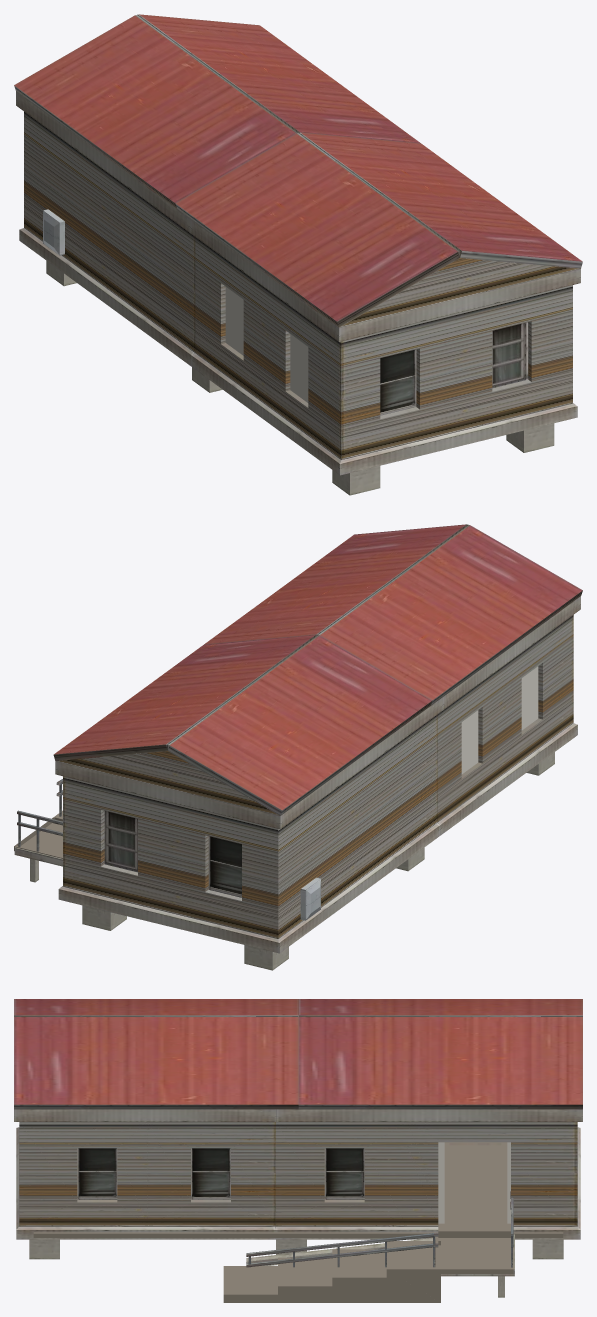
The model's file is rural-mobile-home.access-v7.lod0.glb.
The picture shows the model from 3 angles, top to bottom: view 1: azimuth 30°, elevation 25°; view 2: azimuth 150°, elevation 25°; view 3: azimuth 270°, elevation 25°; orthographic projection. The views are drawn at different scales.
Visible parts, largest first — view 1: Rural_UnmobileHome_1_Rural_Trailer_Stuff_1_0, Rural_UnmobileHome_1_Rural_Facade_FLR_2_0, Walkable floors and stairs; view 2: Rural_UnmobileHome_1_Rural_Trailer_Stuff_1_0, Rural_UnmobileHome_1_Rural_Facade_FLR_2_0, Walkable floors and stairs (×2); view 3: Rural_UnmobileHome_1_Rural_Trailer_Stuff_1_0, Walkable floors and stairs (×2), Rural_UnmobileHome_1_Rural_Facade_FLR_2_0.
Part boxes in pixels (<box>): Rural_UnmobileHome_1_Rural_Trailer_Stuff_1_0: <box>14,14,582,459</box>; Rural_UnmobileHome_1_Rural_Facade_FLR_2_0: <box>16,91,580,495</box>; Walkable floors and stairs: <box>225,287,308,402</box>; Rural_UnmobileHome_1_Rural_Trailer_Stuff_1_0: <box>53,524,582,938</box>; Rural_UnmobileHome_1_Rural_Facade_FLR_2_0: <box>14,596,580,970</box>; Walkable floors and stairs (×2): <box>14,666,538,858</box>; Rural_UnmobileHome_1_Rural_Trailer_Stuff_1_0: <box>14,999,582,1226</box>; Walkable floors and stairs (×2): <box>33,1142,563,1302</box>; Rural_UnmobileHome_1_Rural_Facade_FLR_2_0: <box>14,1109,582,1297</box>.
Bounding box in the file's own units: 6.67 × 4.39 × 11.38.
Materials: 4 (2 with a texture image).
